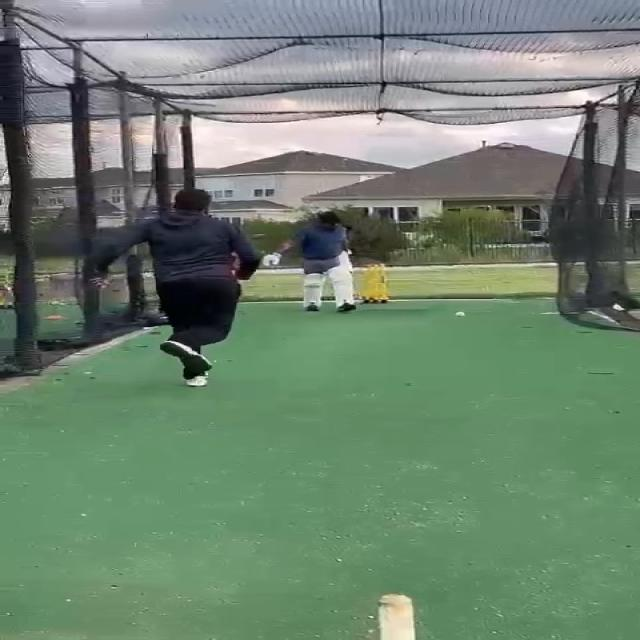batsman: (262, 212, 360, 314)
